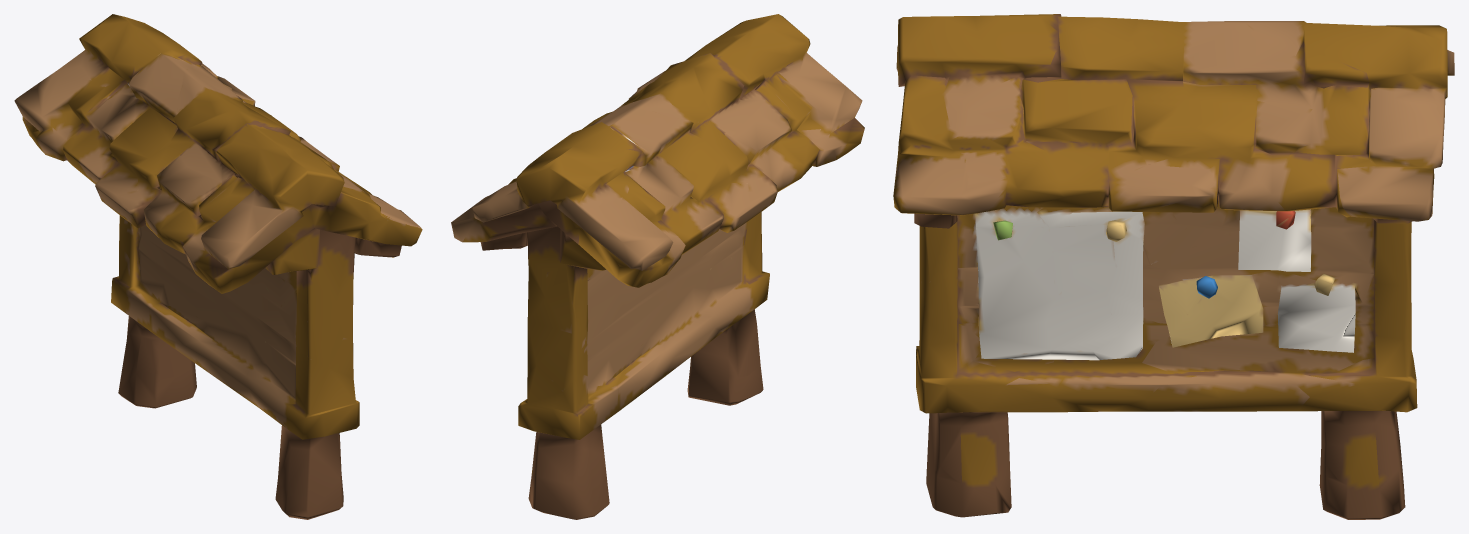
The model's file is notice-board.glb.
The picture shows the model from 3 angles, left to right: view 1: azimuth 30°, elevation 25°; view 2: azimuth 150°, elevation 25°; view 3: azimuth 270°, elevation 25°; orthographic projection. The views are drawn at different scales.
Parts seen in each view (by area): view 1: tripo_node_9f5b5399-b30d-4151-9e7f-ec94fa2d1f08; view 2: tripo_node_9f5b5399-b30d-4151-9e7f-ec94fa2d1f08; view 3: tripo_node_9f5b5399-b30d-4151-9e7f-ec94fa2d1f08.
Part boxes in pixels (bbox=[...]): tripo_node_9f5b5399-b30d-4151-9e7f-ec94fa2d1f08: bbox=[14, 14, 422, 519]; tripo_node_9f5b5399-b30d-4151-9e7f-ec94fa2d1f08: bbox=[451, 14, 864, 519]; tripo_node_9f5b5399-b30d-4151-9e7f-ec94fa2d1f08: bbox=[893, 14, 1454, 519].
Size of the model in its own units: 0.5579 by 0.925 by 1.
1 material, 1 textured.
